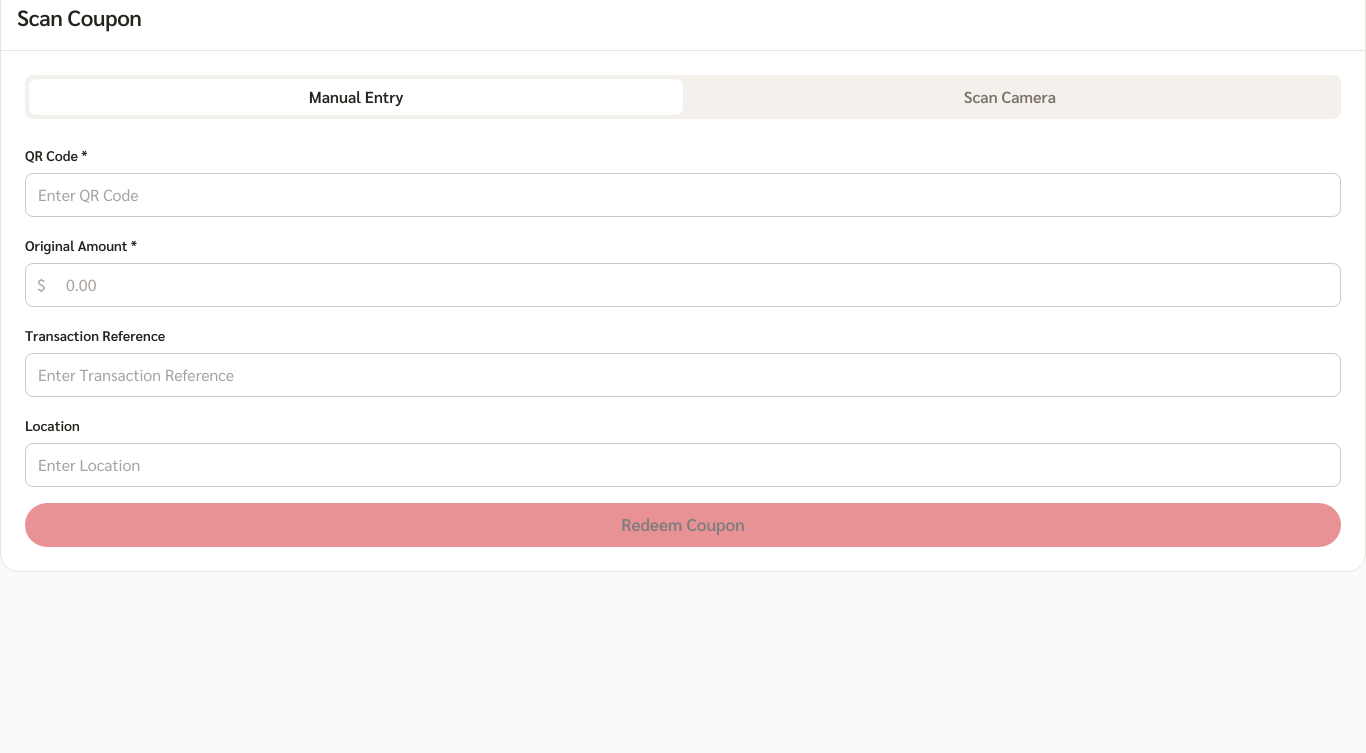
CouponScanner › QR Code Input › should clear redemption result when QR code changes
Type "QR123456" into the field labelled "QR Code *". click: x=683, y=195
box: [25,173,1341,217]
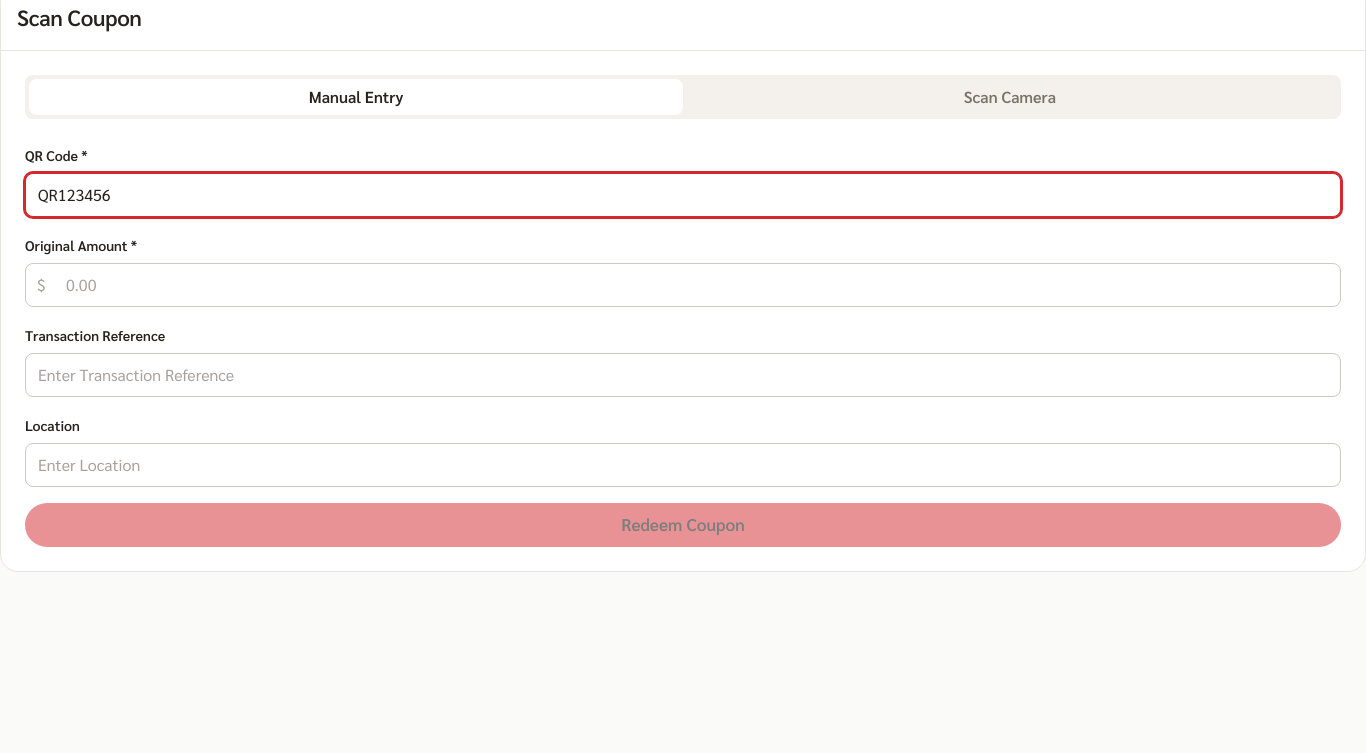
Type "1000" into the number field labelled "Original Amount *". click: x=683, y=285
box: [25,263,1341,307]
(page scrolled)
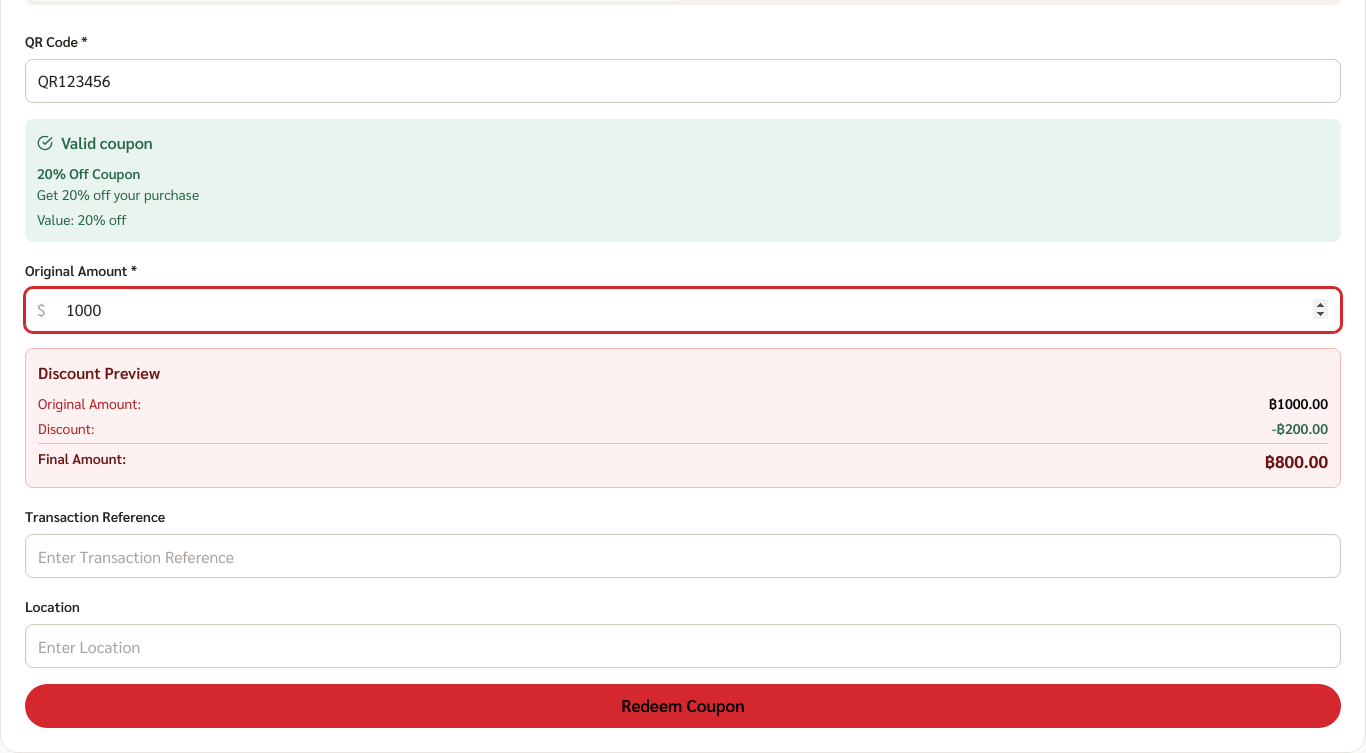
Click the button "Redeem Coupon". click: x=683, y=706
box: [25,684,1341,728]
(page scrolled)
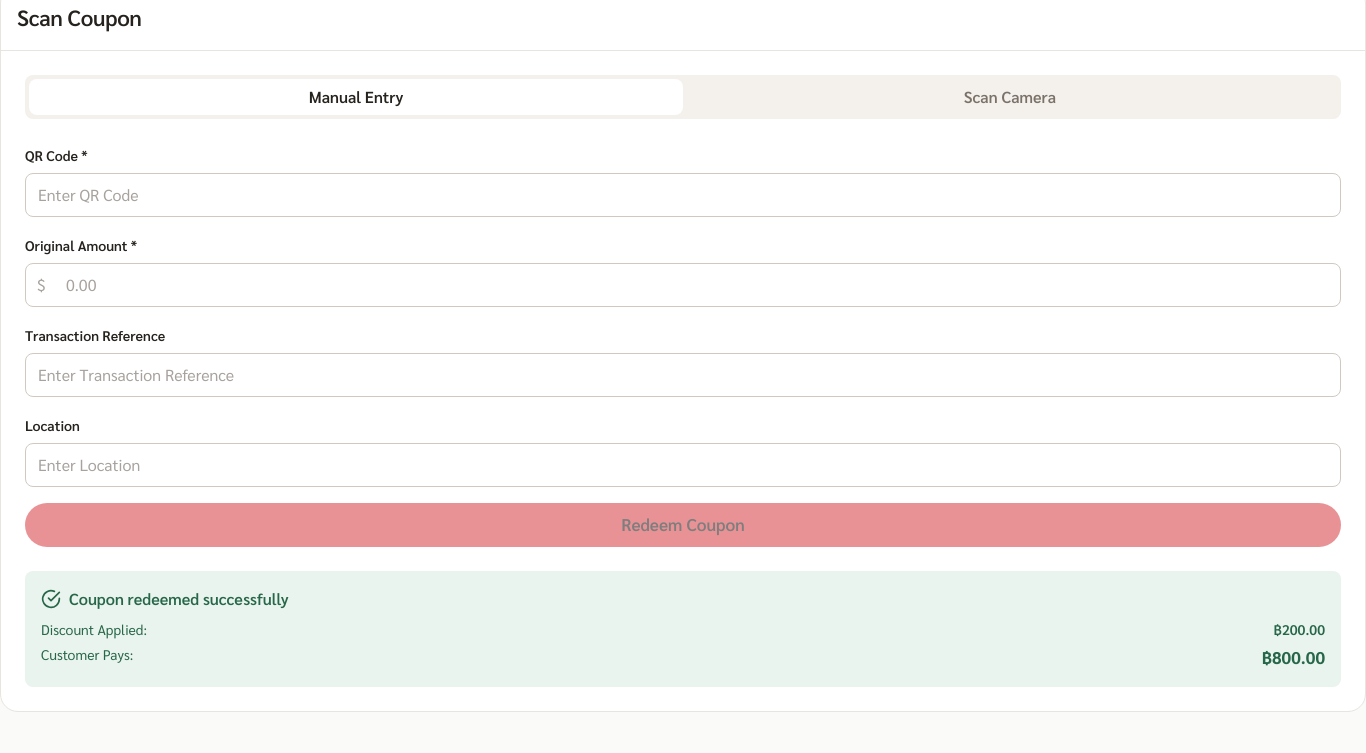
Check: the text "Coupon redeemed successfully" is shown, box [69,587,289,611]
Type "QR789012" into the field labelled "QR Code *". click: x=683, y=195
box: [25,173,1341,217]
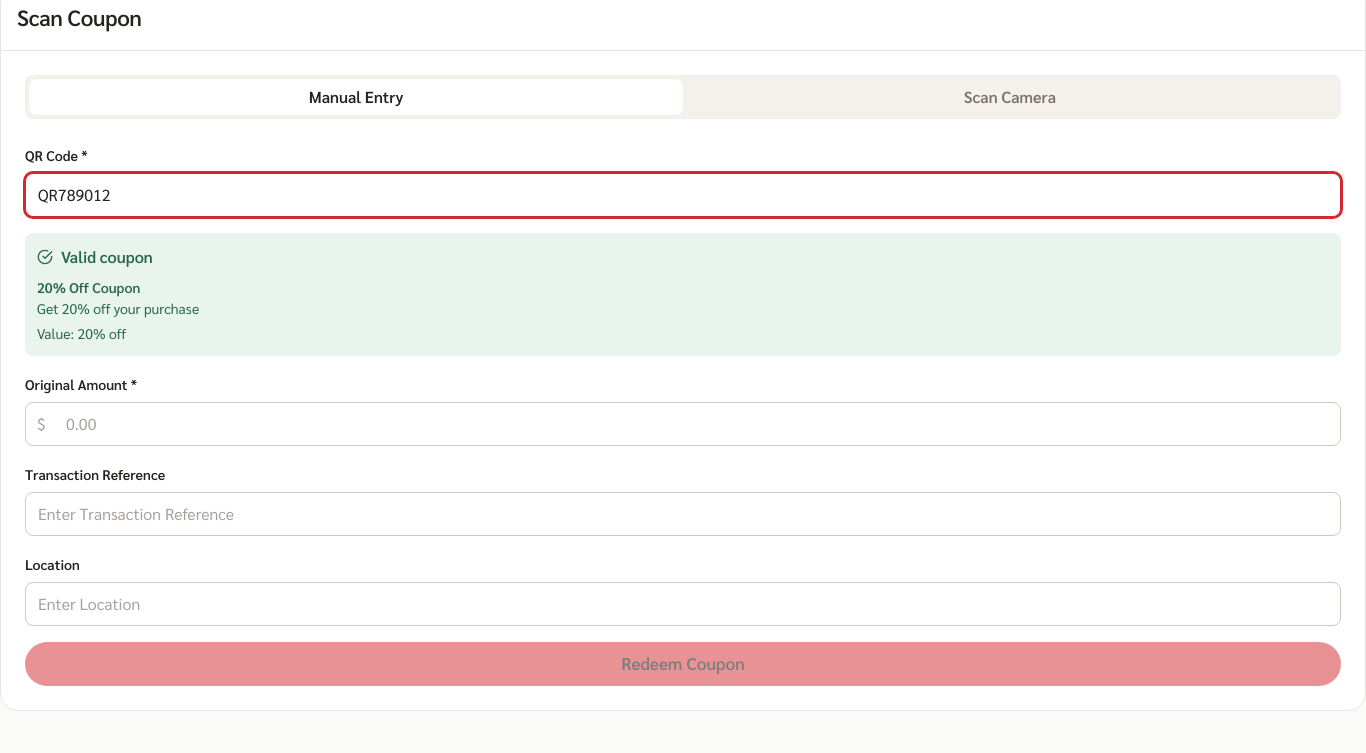
Check: the text "Coupon redeemed successfully" is gone
